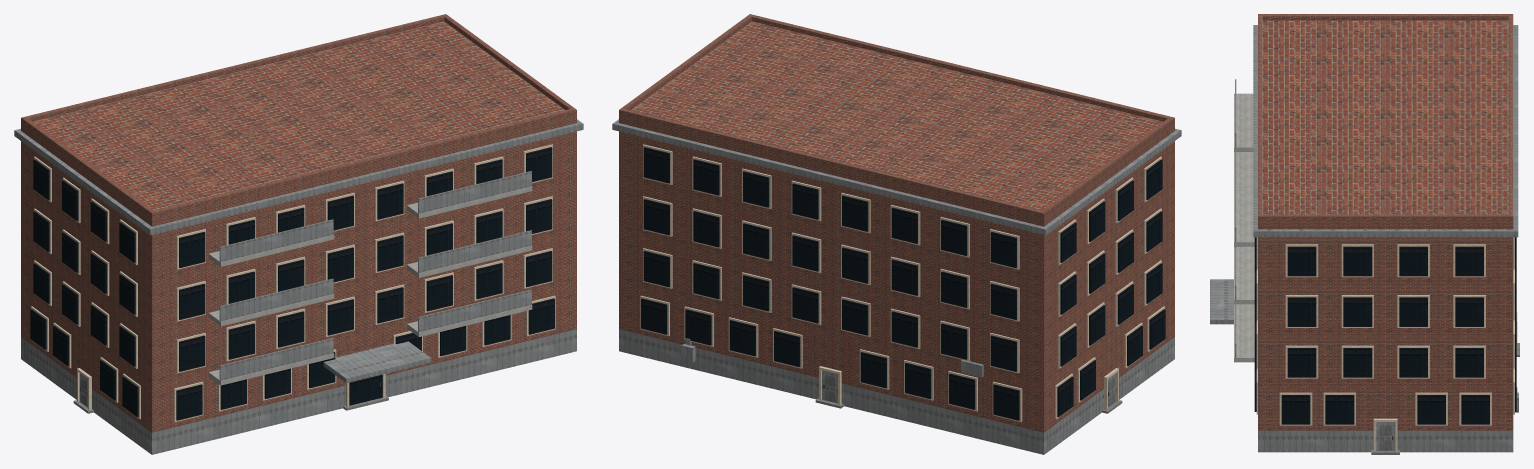
File: harborview-condos_lod0.gltf
3 views of the same model, side by side, from view 1: azimuth 30°, elevation 25°; view 2: azimuth 150°, elevation 25°; view 3: azimuth 270°, elevation 25° (orthographic). The views are drawn at different scales.
Parts seen in each view (by area): view 1: harborview-condos_upper, harborview-condos_fen_07-glass-curtain-blue_1_t, harborview-condos_base, harborview-condos_fen_04-limestone_0, harborview-condos__cornice, harborview-condos__parapet_front, harborview-condos__parapet_back, harborview-condos__canopy, harborview-condos__rail_a3, harborview-condos__rail_a1, harborview-condos__rail_a2, harborview-condos__rail_b1 (+10 smaller); view 2: harborview-condos_upper, harborview-condos_fen_07-glass-curtain-blue_1_t, harborview-condos_fen_04-limestone_0, harborview-condos_base, harborview-condos__cornice, harborview-condos__parapet_back, harborview-condos__parapet_front, harborview-condos__parapet_left, harborview-condos__parapet_right, harborview-condos_fen_14-steel-panel_4; view 3: harborview-condos_upper, harborview-condos_fen_07-glass-curtain-blue_1_t, harborview-condos_fen_04-limestone_0, harborview-condos_base, harborview-condos__cornice, harborview-condos__parapet_right, harborview-condos__parapet_left, harborview-condos__parapet_back, harborview-condos__balcony_b1, harborview-condos__balcony_b2, harborview-condos__balcony_b3, harborview-condos__balcony_a3 (+4 smaller).
Part boxes in pixels (x1,y1,x2,y2): harborview-condos_upper: (21,21,576,432); harborview-condos_fen_07-glass-curtain-blue_1_t: (30,147,554,420); harborview-condos_base: (21,329,576,454); harborview-condos_fen_04-limestone_0: (31,144,555,422); harborview-condos__cornice: (14,119,583,235); harborview-condos__parapet_front: (149,108,576,217); harborview-condos__parapet_back: (21,14,447,123); harborview-condos__canopy: (323,341,431,383); harborview-condos__rail_a3: (219,219,333,262); harborview-condos__rail_a1: (219,338,333,380); harborview-condos__rail_a2: (219,278,333,321); harborview-condos__rail_b1: (418,289,531,332); harborview-condos_upper: (619,21,1174,432); harborview-condos_fen_07-glass-curtain-blue_1_t: (641,147,1165,420); harborview-condos_fen_04-limestone_0: (640,144,1164,422); harborview-condos_base: (619,329,1174,454); harborview-condos__cornice: (612,119,1181,235); harborview-condos__parapet_back: (619,108,1046,217); harborview-condos__parapet_front: (748,14,1174,123); harborview-condos__parapet_left: (1042,118,1172,215); harborview-condos__parapet_right: (622,16,751,109); harborview-condos_fen_14-steel-panel_4: (681,338,1116,407); harborview-condos_upper: (1258,20,1513,430); harborview-condos_fen_07-glass-curtain-blue_1_t: (1254,237,1516,424); harborview-condos_fen_04-limestone_0: (1256,237,1517,451); harborview-condos_base: (1258,430,1513,452); harborview-condos__cornice: (1253,25,1518,237); harborview-condos__parapet_right: (1262,214,1508,220); harborview-condos__parapet_left: (1262,14,1508,20); harborview-condos__parapet_back: (1508,14,1513,220); harborview-condos__balcony_b1: (1234,304,1254,362); harborview-condos__balcony_b2: (1234,246,1254,304); harborview-condos__balcony_b3: (1234,188,1254,246); harborview-condos__balcony_a3: (1234,93,1253,151).
Size of the model in its own units: 30.8 by 16.3 by 19.4.
